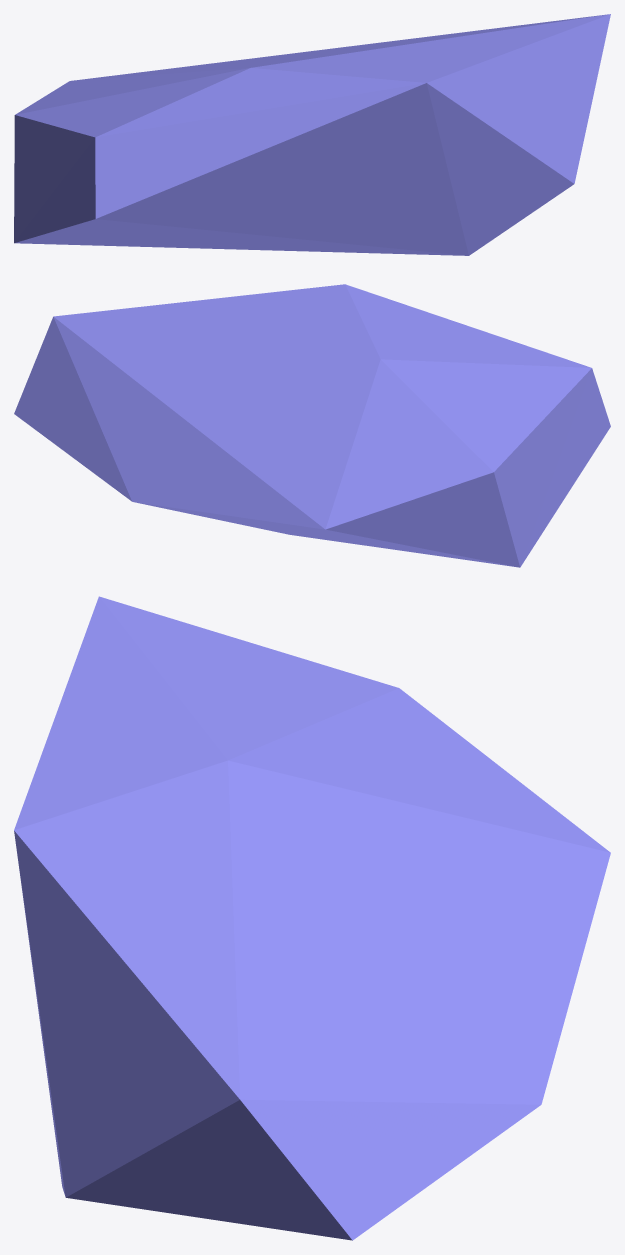
Rendered from Rock_11_Collider_01.FBX.
The picture shows the model from 3 angles, top to bottom: view 1: azimuth 30°, elevation 25°; view 2: azimuth 150°, elevation 25°; view 3: azimuth 270°, elevation 25°; orthographic projection. The views are drawn at different scales.
Visible parts, largest first — view 1: COLLIDER1; view 2: COLLIDER1; view 3: COLLIDER1.
Part boxes in pixels (bbox=[...]): COLLIDER1: bbox=[14, 14, 610, 255]; COLLIDER1: bbox=[14, 284, 610, 567]; COLLIDER1: bbox=[14, 596, 610, 1240].
Bounding box in the file's own units: 59.38 × 20.86 × 33.65.
